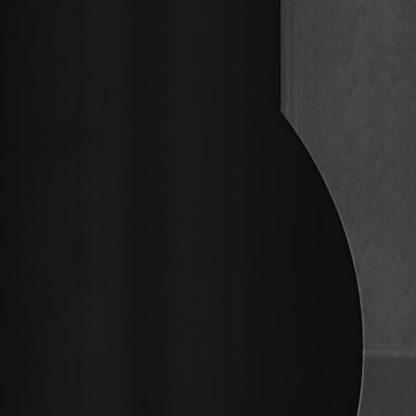crescent_gap: (271, 93, 370, 416)
welding_line: (354, 346, 416, 374)
